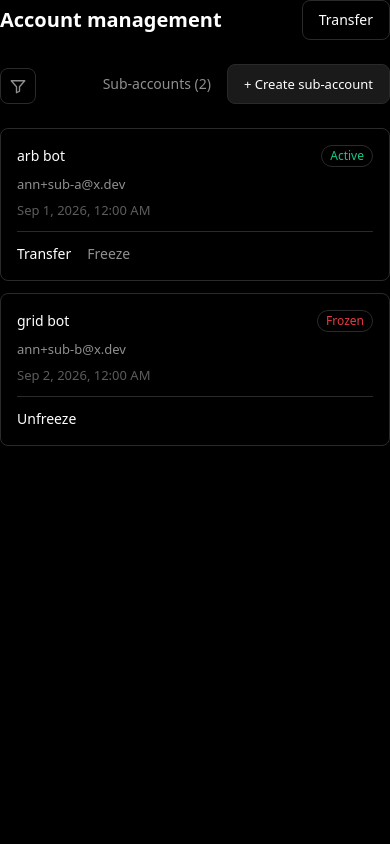
Test case: Sub-accounts › opens the filters as a sheet over the page on a phone, and searching closes it
Click the button named "Filters".
click(18, 86)  # box [0, 68, 36, 104]
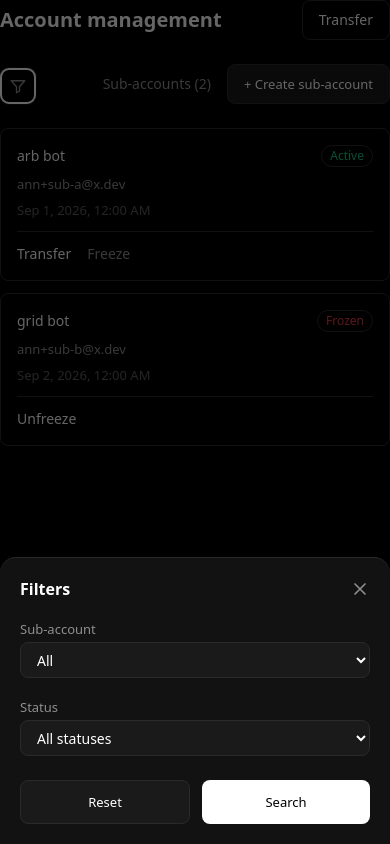
Expected: the button named "Filters" is expanded, [0, 68, 36, 104]
Expected: the number of dropdowns named "Status" is 1, [20, 720, 370, 756]
Searching closes it: the answer is the list, not the form.
Click the button "Search".
click(286, 802)  # box [202, 780, 370, 824]
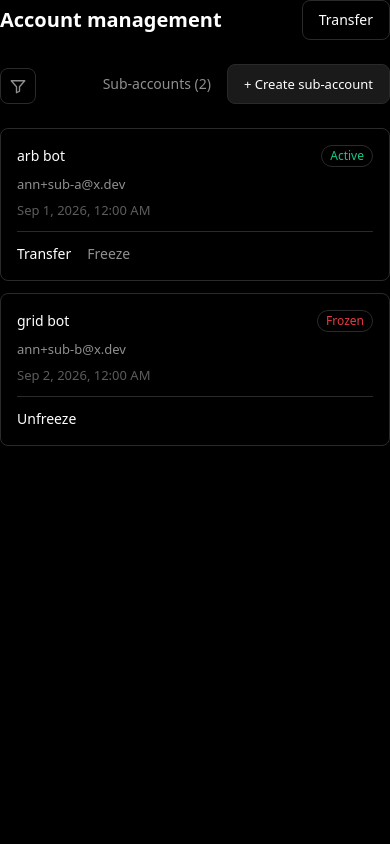
Expected: the button named "Filters" is collapsed, [0, 68, 36, 104]
